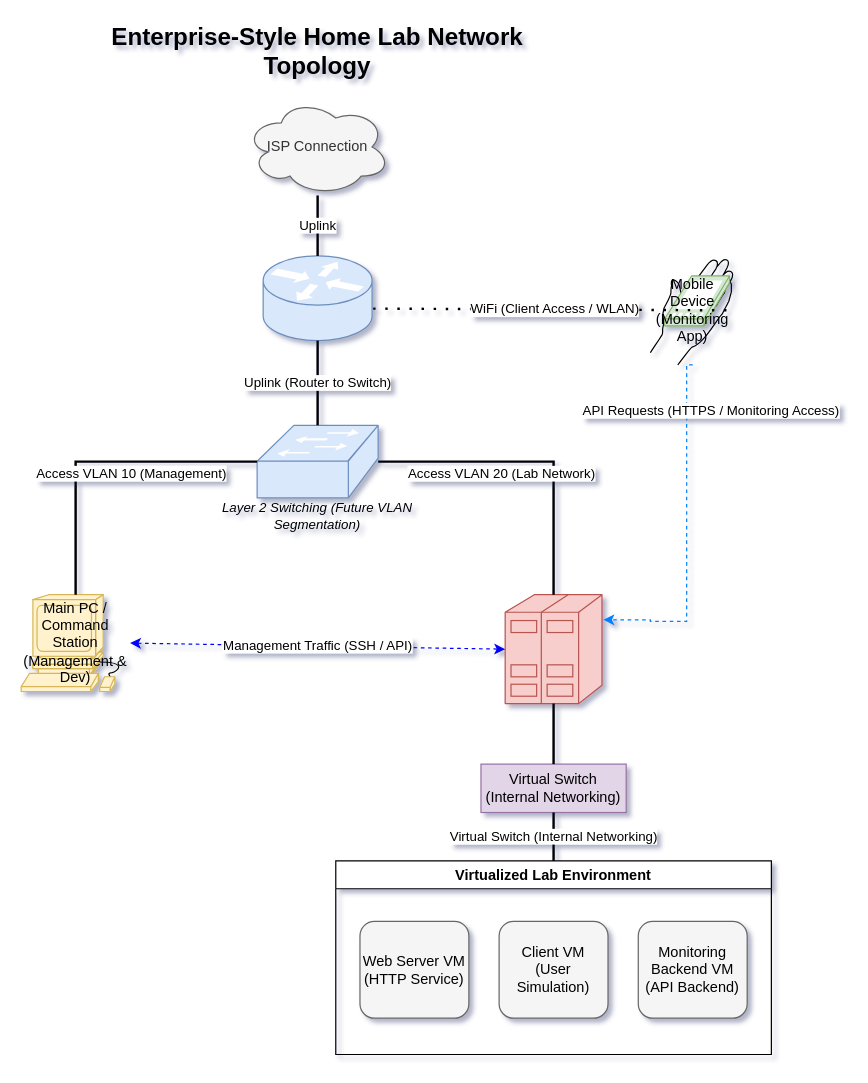
Image size: 868x1083. Some labels were removed from this diagram. Each missing label, with the centre of its shape:
Cisco Switch (SW1): point 317,461
Home Router / Gateway: point 317,298
Lab Server (VM Host): point 553,649
